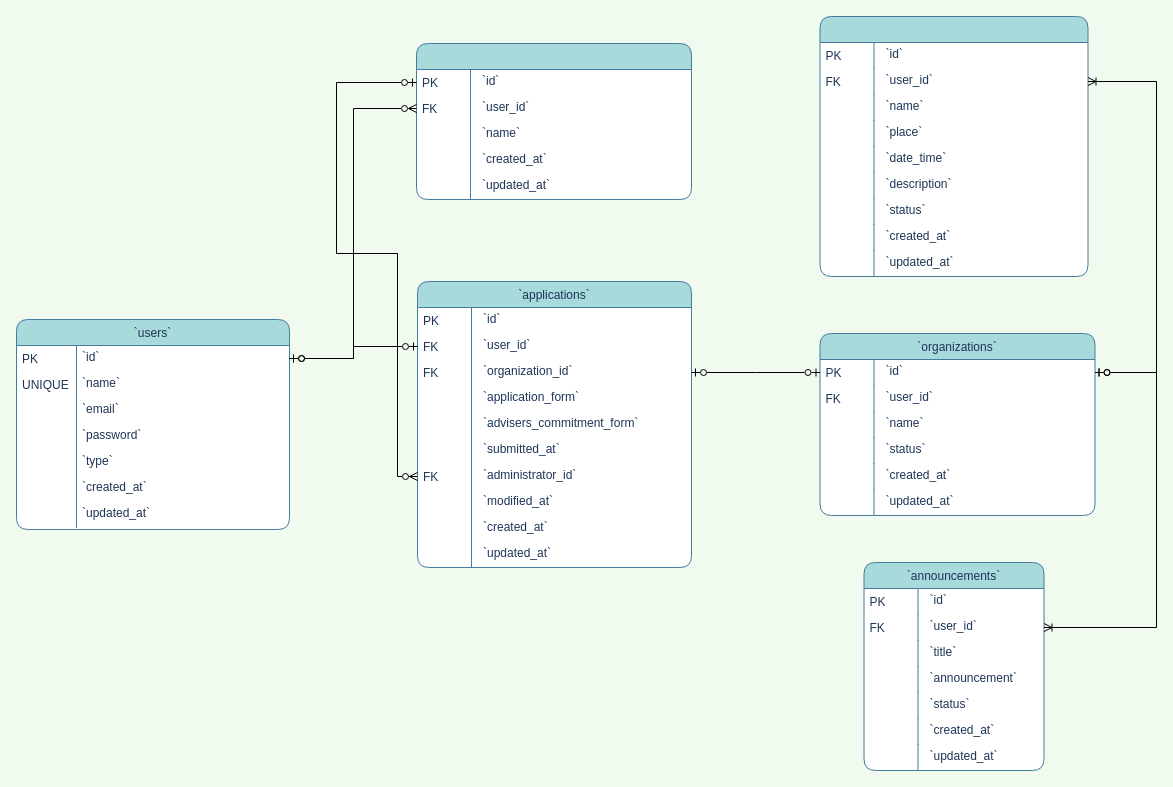
The diagram is 1173 pixels wide and 787 high, and some of its shapes have lost their labels. Each missing label, with the box of its shape:
`administrators`: (416, 42, 692, 200)
`events`: (819, 16, 1088, 276)
